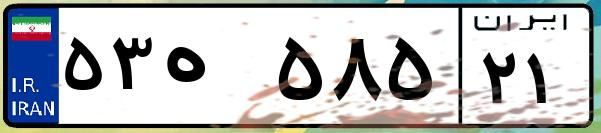1: (525, 38, 570, 115)
2: (475, 38, 525, 113)
3: (110, 28, 158, 98)
5: (270, 28, 330, 110), (385, 28, 445, 110), (57, 26, 110, 100)
8: (330, 28, 385, 110)
ه: (158, 20, 270, 120)
